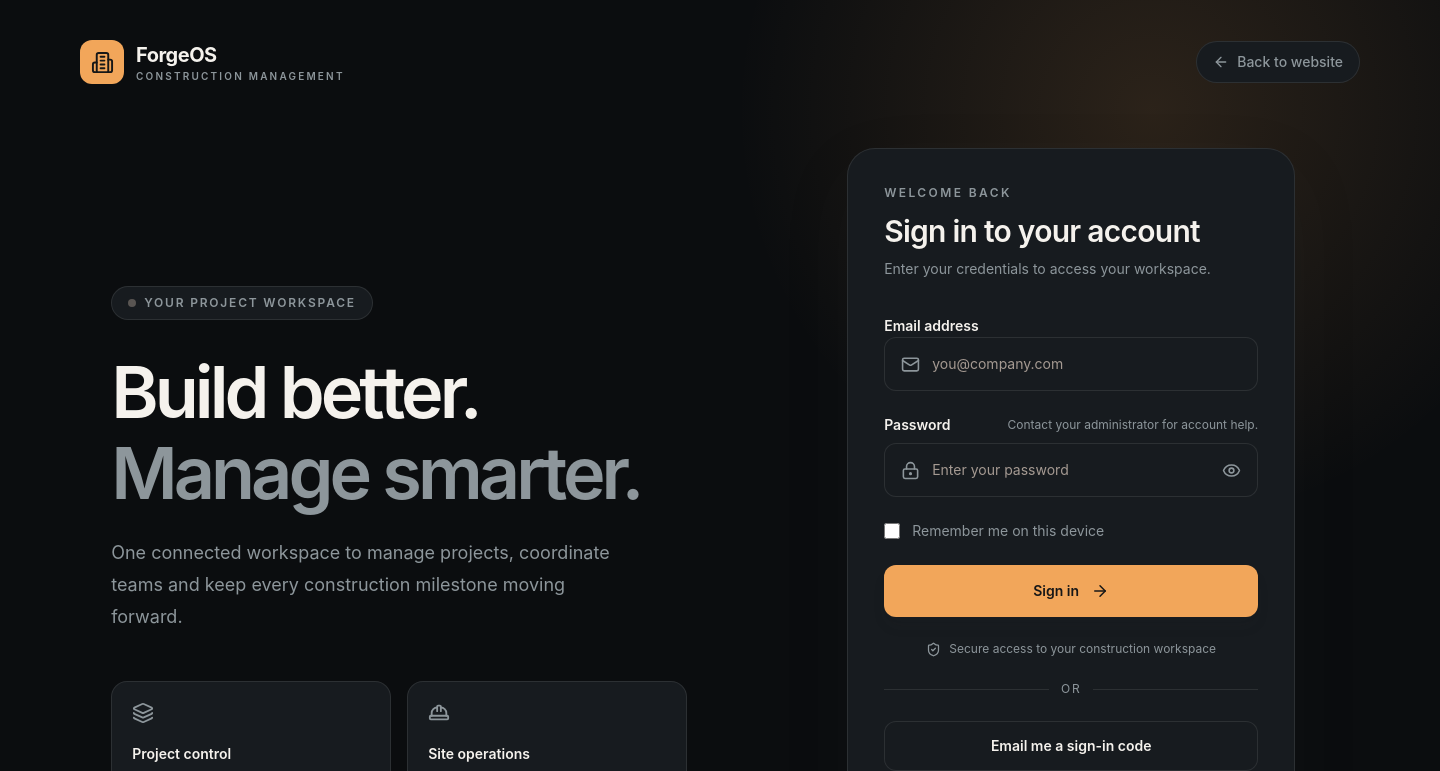
Scenario: LoginPage — failed password login › a 401 maps to the friendly invalid-credentials message with no token stored
In the field labelled "Email address": (1087, 364) [932,338,1241,390], type "asha@forge.test"
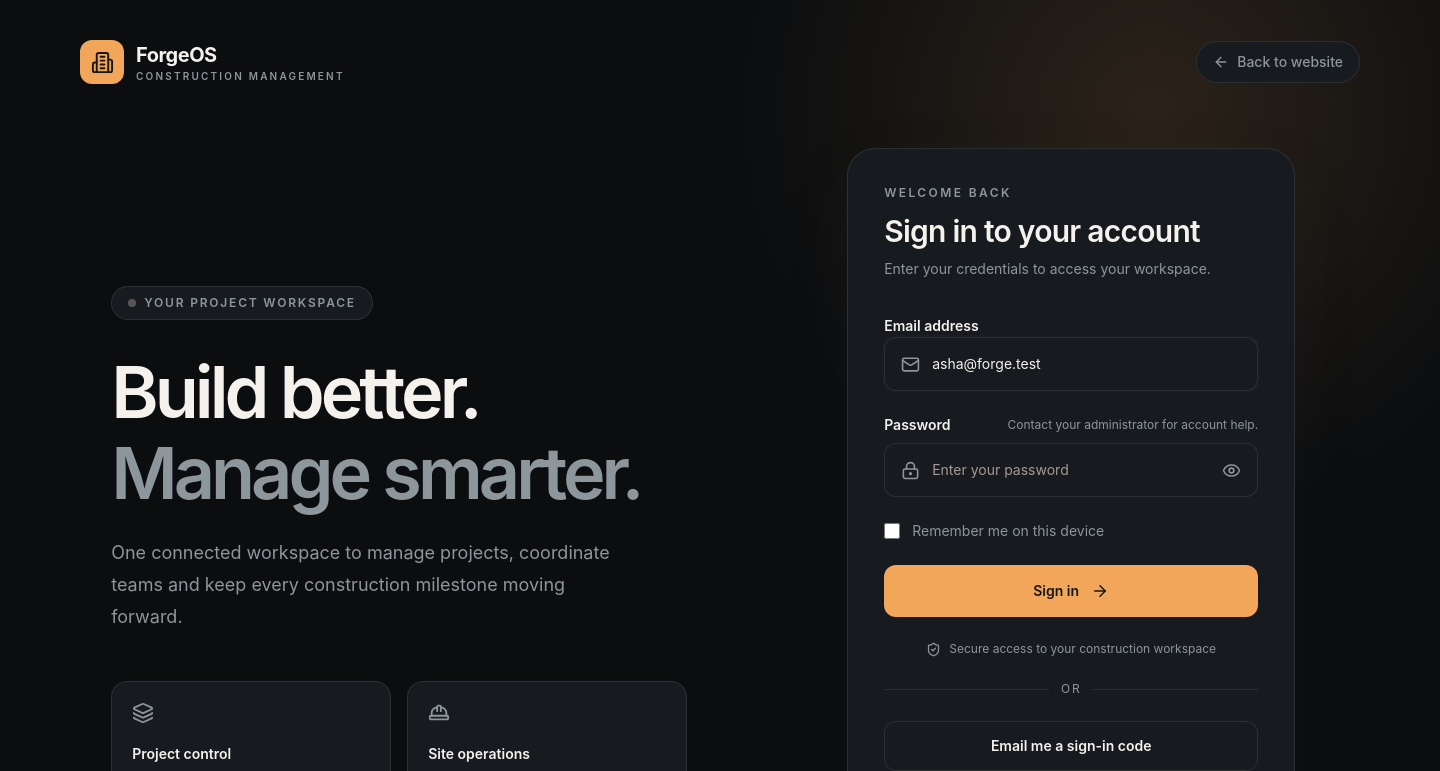
In the password field labelled "Password": (1071, 470) [932,444,1210,496], type "secret123"
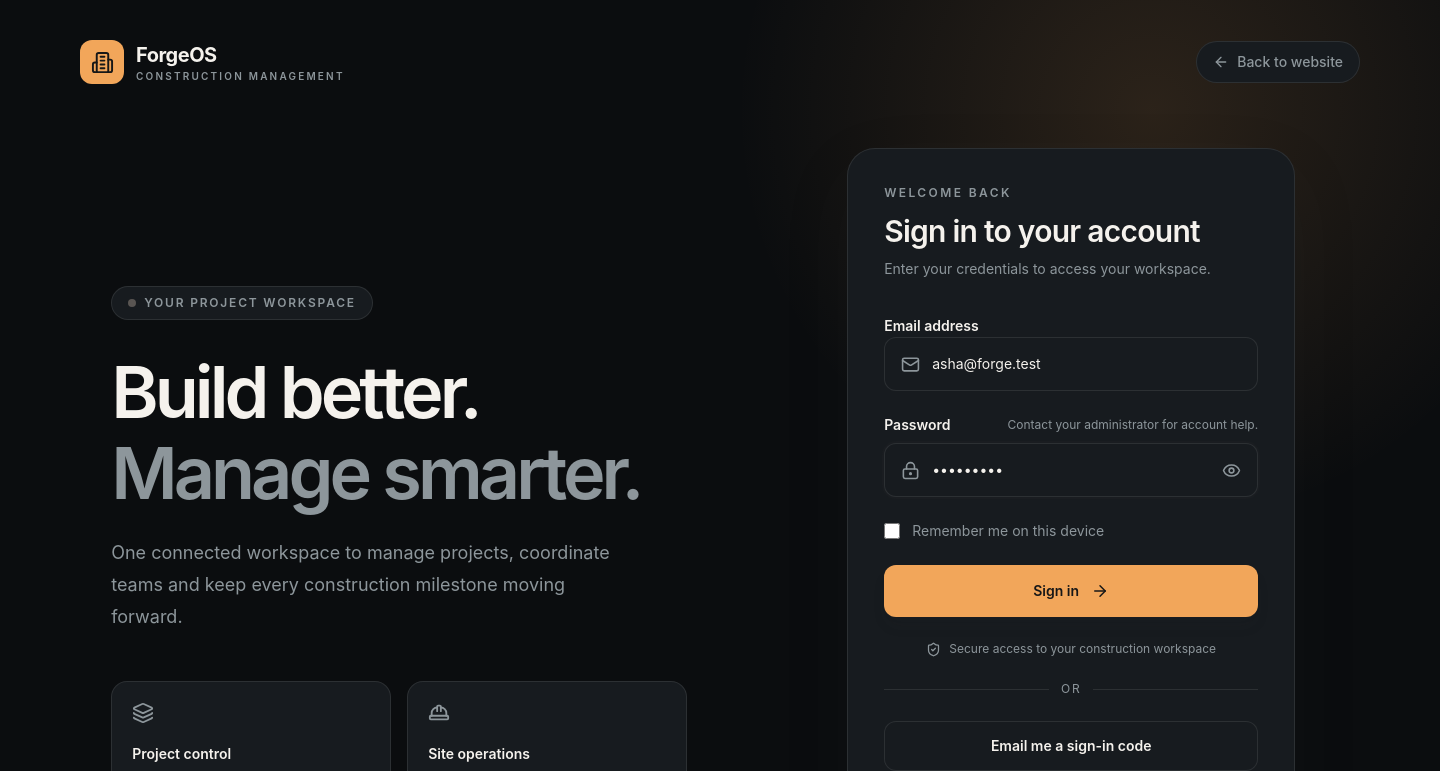
Click the button "Sign in": (1071, 591) [884,565,1258,617]
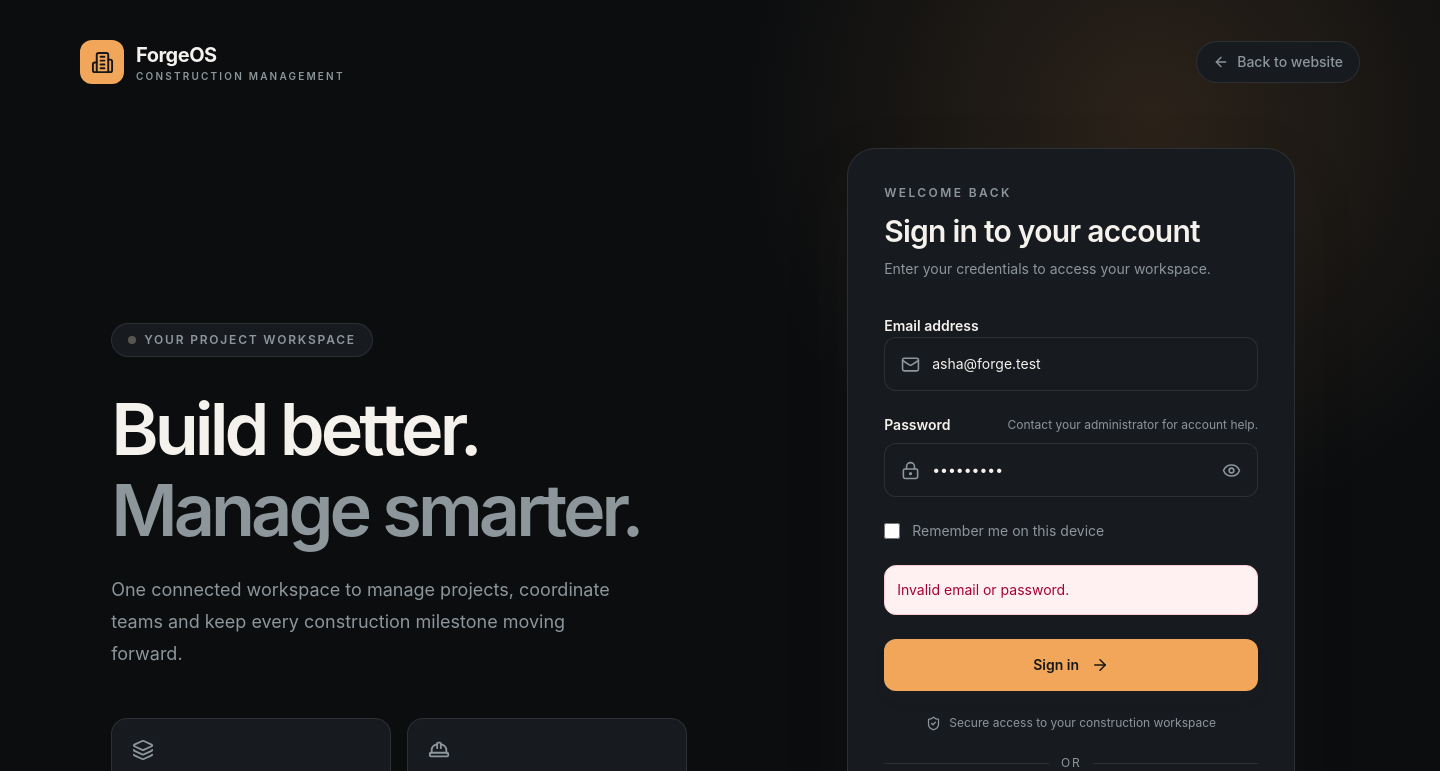
Check: the message reads "Invalid email or password.", box [897,581,1069,598]
